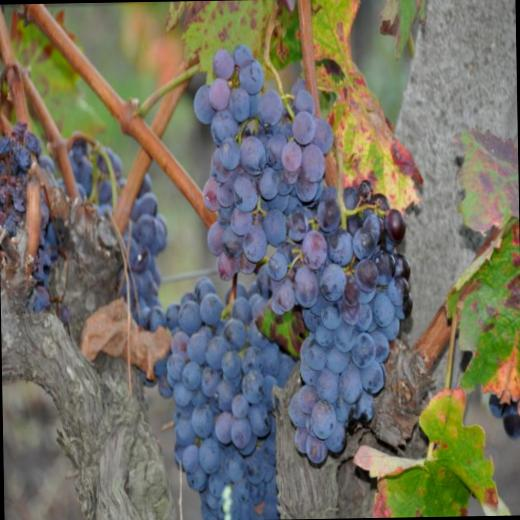Orange: (0, 44, 417, 520), (502, 399, 520, 436), (490, 394, 504, 418)
